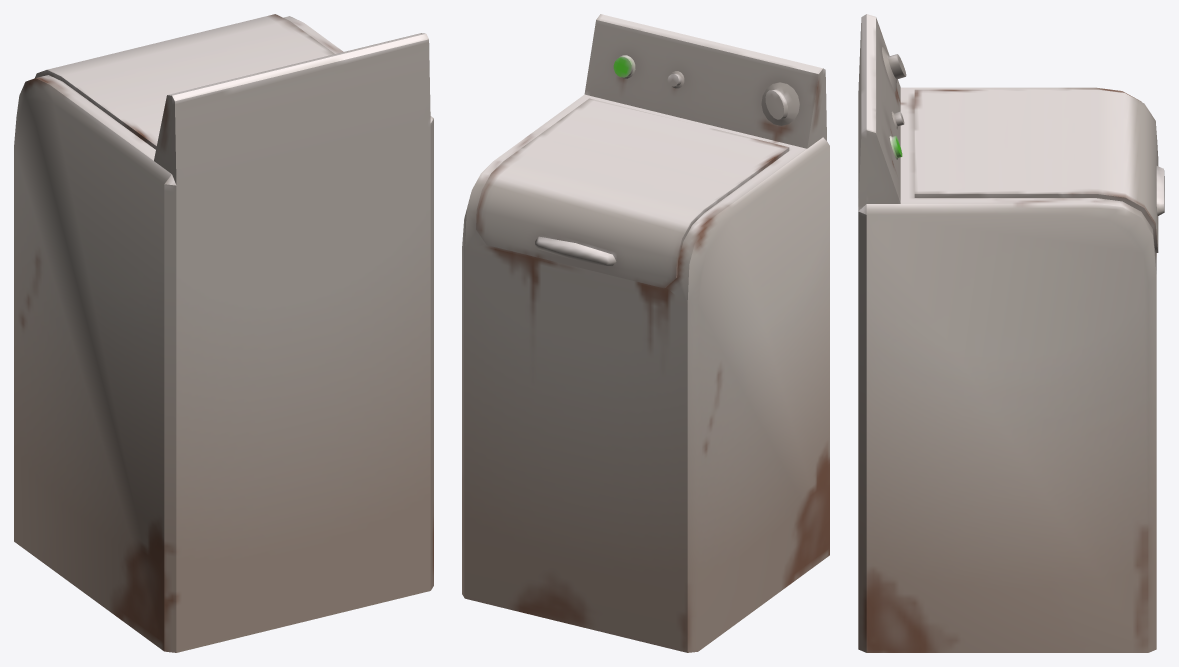
File: Dryer_Mexican.fbx
The picture shows the model from 3 angles, left to right: view 1: azimuth 30°, elevation 25°; view 2: azimuth 150°, elevation 25°; view 3: azimuth 270°, elevation 25°; orthographic projection. The views are drawn at different scales.
Visible parts, largest first — view 1: Dryer, Dryer_Top; view 2: Dryer, Dryer_Top; view 3: Dryer, Dryer_Top.
Boxes of the visible parts, bbox=[...] form: Dryer: bbox=[14, 16, 433, 652]; Dryer_Top: bbox=[35, 14, 334, 149]; Dryer: bbox=[462, 14, 829, 652]; Dryer_Top: bbox=[476, 98, 789, 288]; Dryer: bbox=[858, 14, 1156, 652]; Dryer_Top: bbox=[914, 89, 1164, 253].
Bounding box in the file's own units: 41.57 × 81.62 × 43.65.
